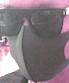with_mask: (2, 1, 69, 83)
